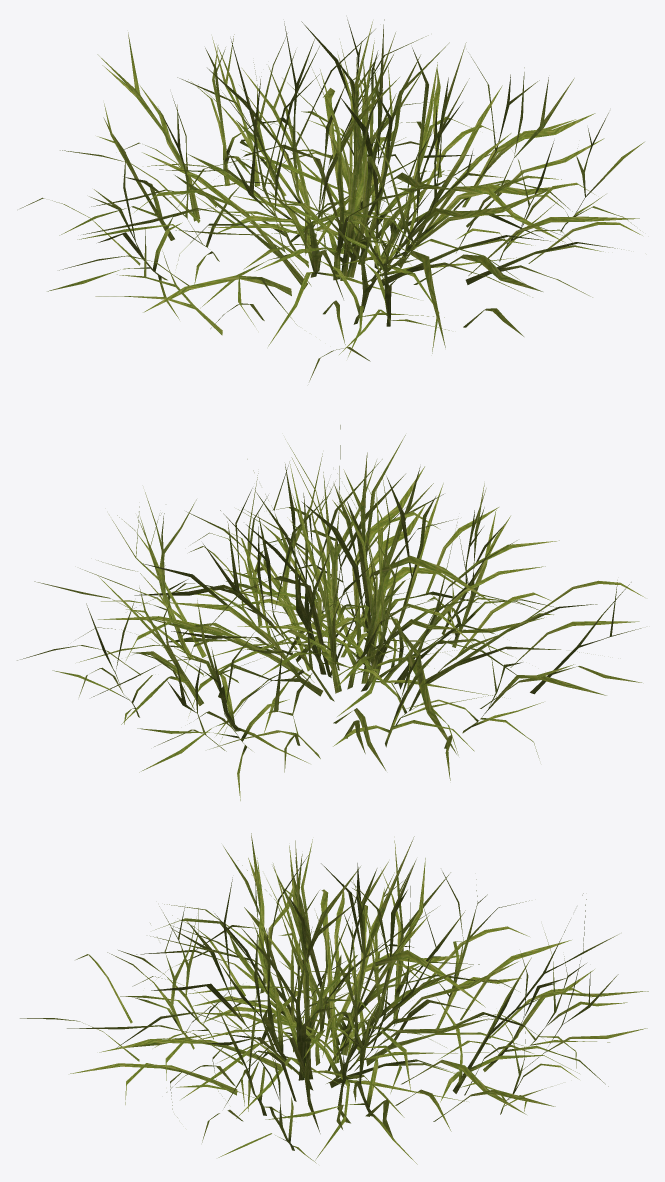
File: Germination.glb
The picture shows the model from 3 angles, top to bottom: view 1: azimuth 30°, elevation 25°; view 2: azimuth 150°, elevation 25°; view 3: azimuth 270°, elevation 25°; orthographic projection. The views are drawn at different scales.
Parts seen in each view (by area): view 1: Grass_Basic-dry_D_spring-summer; view 2: Grass_Basic-dry_D_spring-summer; view 3: Grass_Basic-dry_D_spring-summer.
Boxes of the visible parts, x1,y1,x2,y2 form: Grass_Basic-dry_D_spring-summer: (20,19,644,381); Grass_Basic-dry_D_spring-summer: (17,425,644,800); Grass_Basic-dry_D_spring-summer: (20,833,648,1164).
Size of the model in its own units: 0.4739 by 0.2126 by 0.4896.
1 material, 1 textured.
